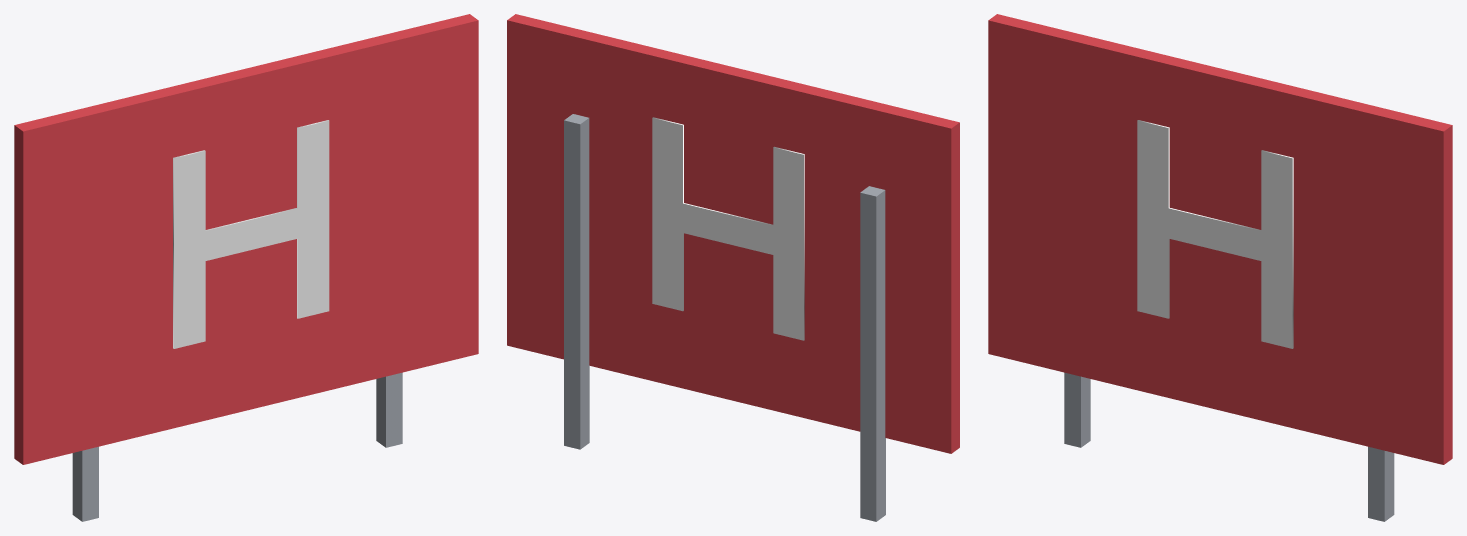
File: setor_H.glb
The picture shows the model from 3 angles, left to right: view 1: azimuth 30°, elevation 25°; view 2: azimuth 150°, elevation 25°; view 3: azimuth 330°, elevation 25°; orthographic projection. The views are drawn at different scales.
Visible parts, largest first — view 1: vermelho, t, aco; view 2: vermelho, aco, t.001; view 3: vermelho, t, aco.
Boxes of the visible parts, x1,y1,x2,y2 form: vermelho: [14, 14, 478, 464]; t: [173, 120, 329, 348]; aco: [72, 372, 402, 521]; vermelho: [507, 14, 959, 453]; aco: [564, 114, 885, 521]; t.001: [652, 117, 804, 340]; vermelho: [988, 14, 1452, 464]; t: [1137, 120, 1293, 348]; aco: [1064, 372, 1394, 521].
Size of the model in its own units: 6 by 5.2 by 0.432.
